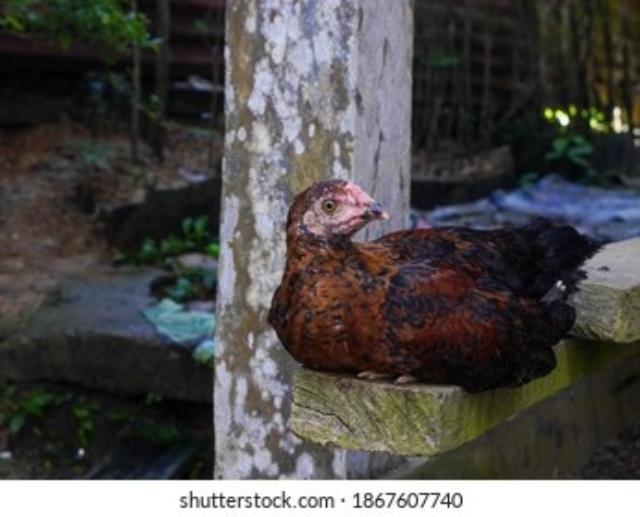Chicken: (268, 178, 593, 394)
